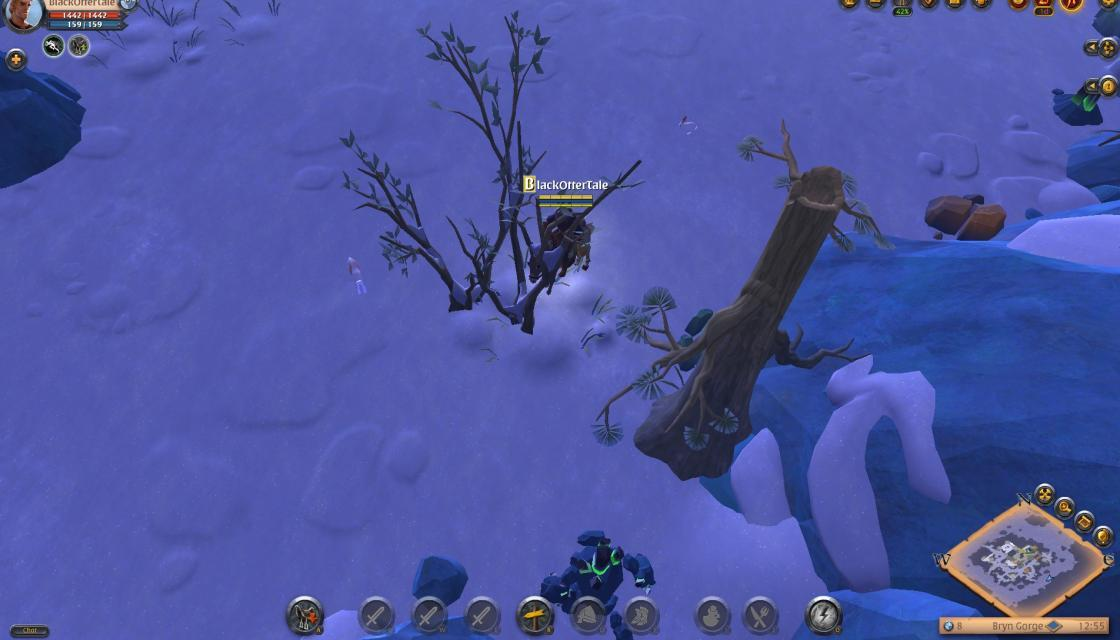limestone: (923, 191, 1011, 245)
tinore: (1052, 74, 1108, 128)
